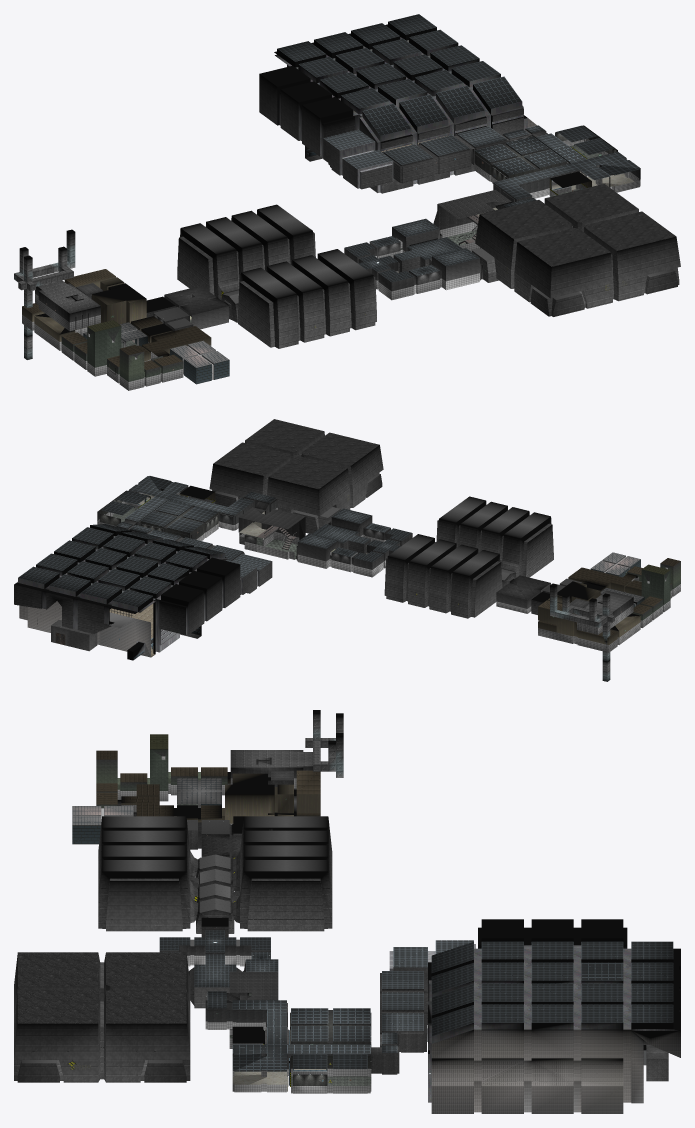
File: facility-test.glb
The picture shows the model from 3 angles, top to bottom: view 1: azimuth 30°, elevation 25°; view 2: azimuth 150°, elevation 25°; view 3: azimuth 270°, elevation 25°; orthographic projection. The views are drawn at different scales.
Visible parts, largest first — view 1: primary_Room44, primary_Room2F, primary_Room2E, primary_Room40, primary_Room42, primary_Room2C, primary_Room1C, primary_Room20, primary_Room43, primary_Room3F, primary_Room3E, primary_Room39 (+35 smaller); view 2: primary_Room42, primary_Room41, primary_Room40, primary_Room2C, primary_Room44, primary_Room2D, primary_Room2F, primary_Room31, primary_Room20, primary_Room43, primary_Room1C, primary_Room39 (+34 smaller); view 3: primary_Room44, primary_Room42, primary_Room2E, primary_Room2D, primary_Room43, primary_Room23, primary_Room1F, primary_Room41, primary_Room2F, primary_Room40, primary_Room2C, primary_Room38 (+37 smaller).
Part boxes in pixels (box(x1,y1,x2,y2)): primary_Room44: box(338, 61, 536, 193); primary_Room2F: box(514, 228, 613, 316); primary_Room2E: box(584, 211, 680, 301); primary_Room40: box(259, 65, 354, 156); primary_Room42: box(287, 23, 458, 84); primary_Room2C: box(475, 200, 572, 288); primary_Room1C: box(238, 267, 298, 348); primary_Room20: box(177, 223, 238, 299); primary_Room43: box(305, 45, 479, 161); primary_Room3F: box(323, 129, 393, 189); primary_Room3E: box(382, 135, 472, 183); primary_Room39: box(474, 136, 567, 183); primary_Room42: box(19, 553, 177, 657); primary_Room41: box(14, 570, 150, 634); primary_Room40: box(159, 557, 240, 634); primary_Room2C: box(267, 456, 350, 515); primary_Room44: box(72, 524, 227, 618); primary_Room2D: box(209, 442, 291, 506); primary_Room2F: box(301, 432, 383, 507); primary_Room31: box(238, 507, 305, 559); primary_Room20: box(451, 550, 502, 618); primary_Room43: box(54, 540, 201, 638); primary_Room1C: box(502, 512, 553, 577); primary_Room39: box(140, 500, 218, 540); primary_Room44: box(428, 941, 531, 1113); primary_Room42: box(573, 941, 643, 1113); primary_Room2E: box(14, 989, 103, 1082); primary_Room2D: box(104, 989, 190, 1082); primary_Room43: box(531, 941, 573, 1113); primary_Room23: box(232, 860, 332, 931); primary_Room1F: box(98, 860, 197, 931); primary_Room41: box(643, 941, 680, 1057); primary_Room2F: box(14, 952, 103, 1022); primary_Room40: box(478, 919, 627, 948); primary_Room2C: box(104, 952, 190, 1022); primary_Room38: box(289, 1054, 371, 1093).
Size of the model in its own units: 13277 by 2308 by 11154.
Materials: 91 (90 with a texture image).
